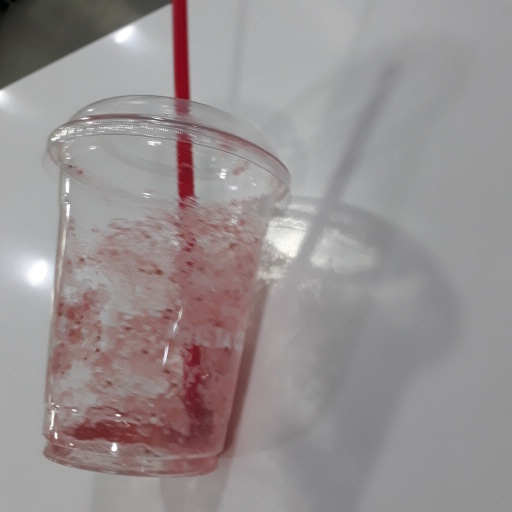Plastic_2: (37, 1, 291, 475)
